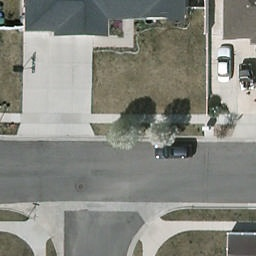car: (217, 47, 234, 88), (154, 144, 191, 160)
